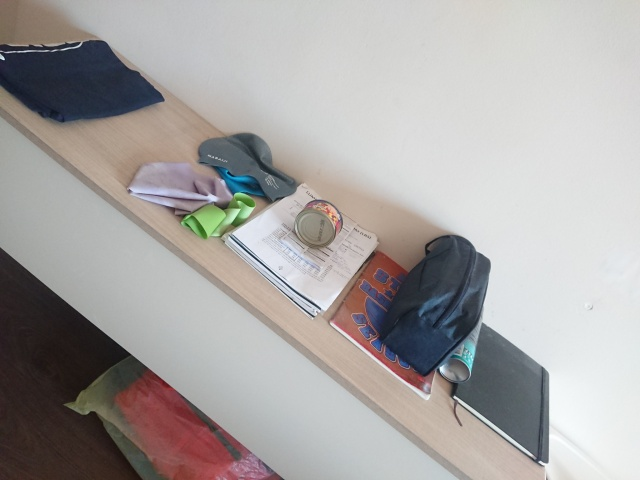Giana Tuna Salad Mexico 185g: (292, 197, 346, 250)
